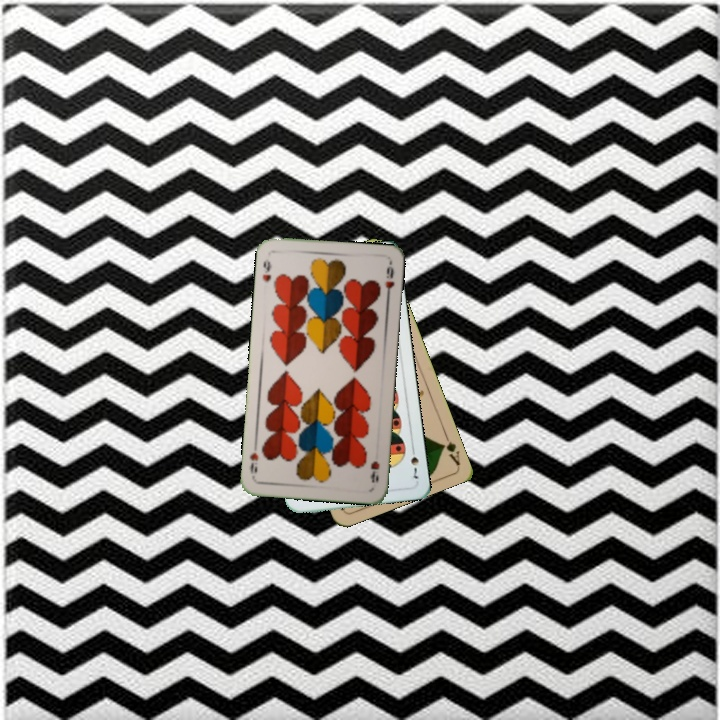GA: (437, 428, 462, 467)
H9: (258, 255, 274, 284), (366, 457, 382, 485)
S7: (407, 443, 422, 481)
